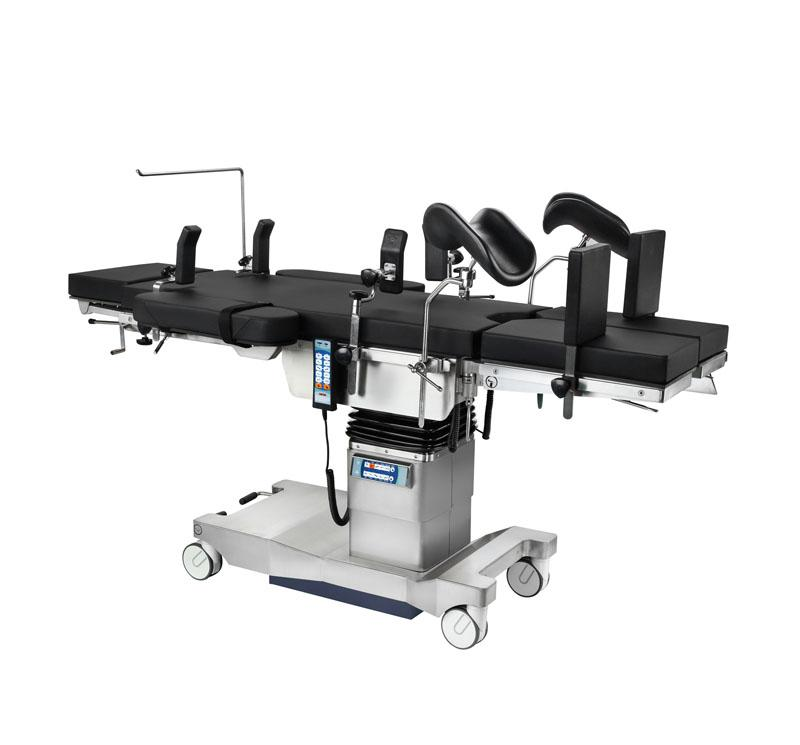Bed: (27, 142, 767, 667)
